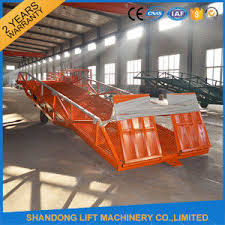Yard Ramp: (15, 69, 212, 175)
